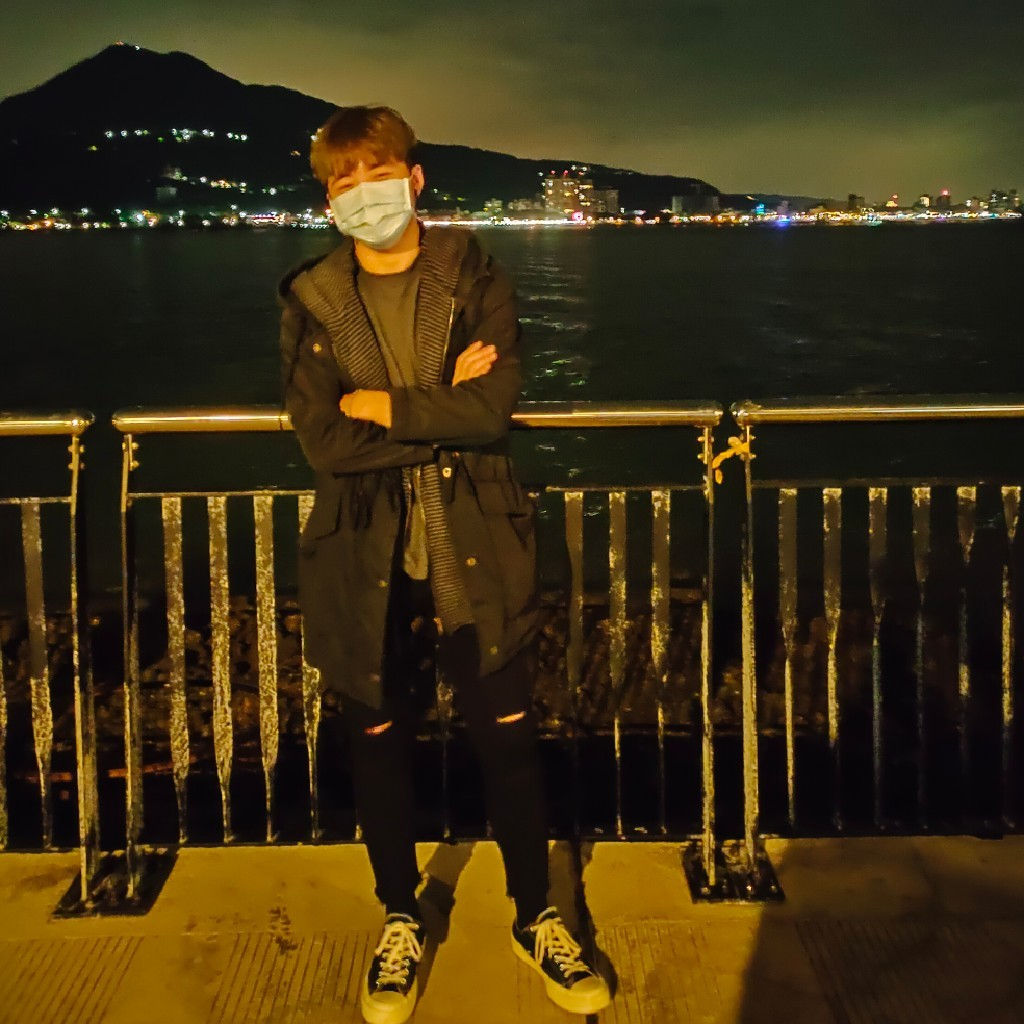people: (285, 96, 633, 1020)
